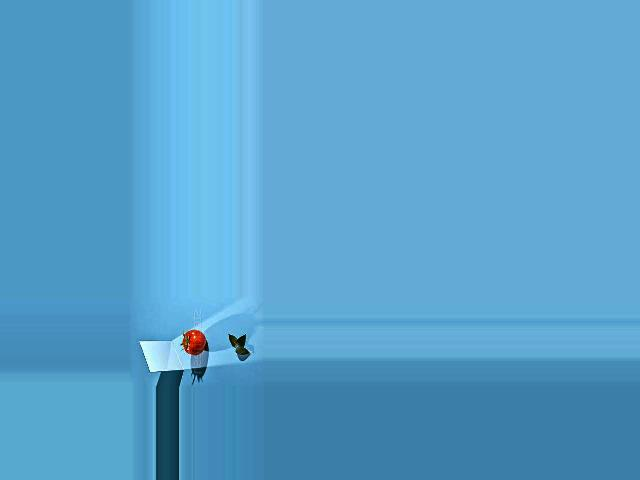tomato: (182, 329, 206, 355)
